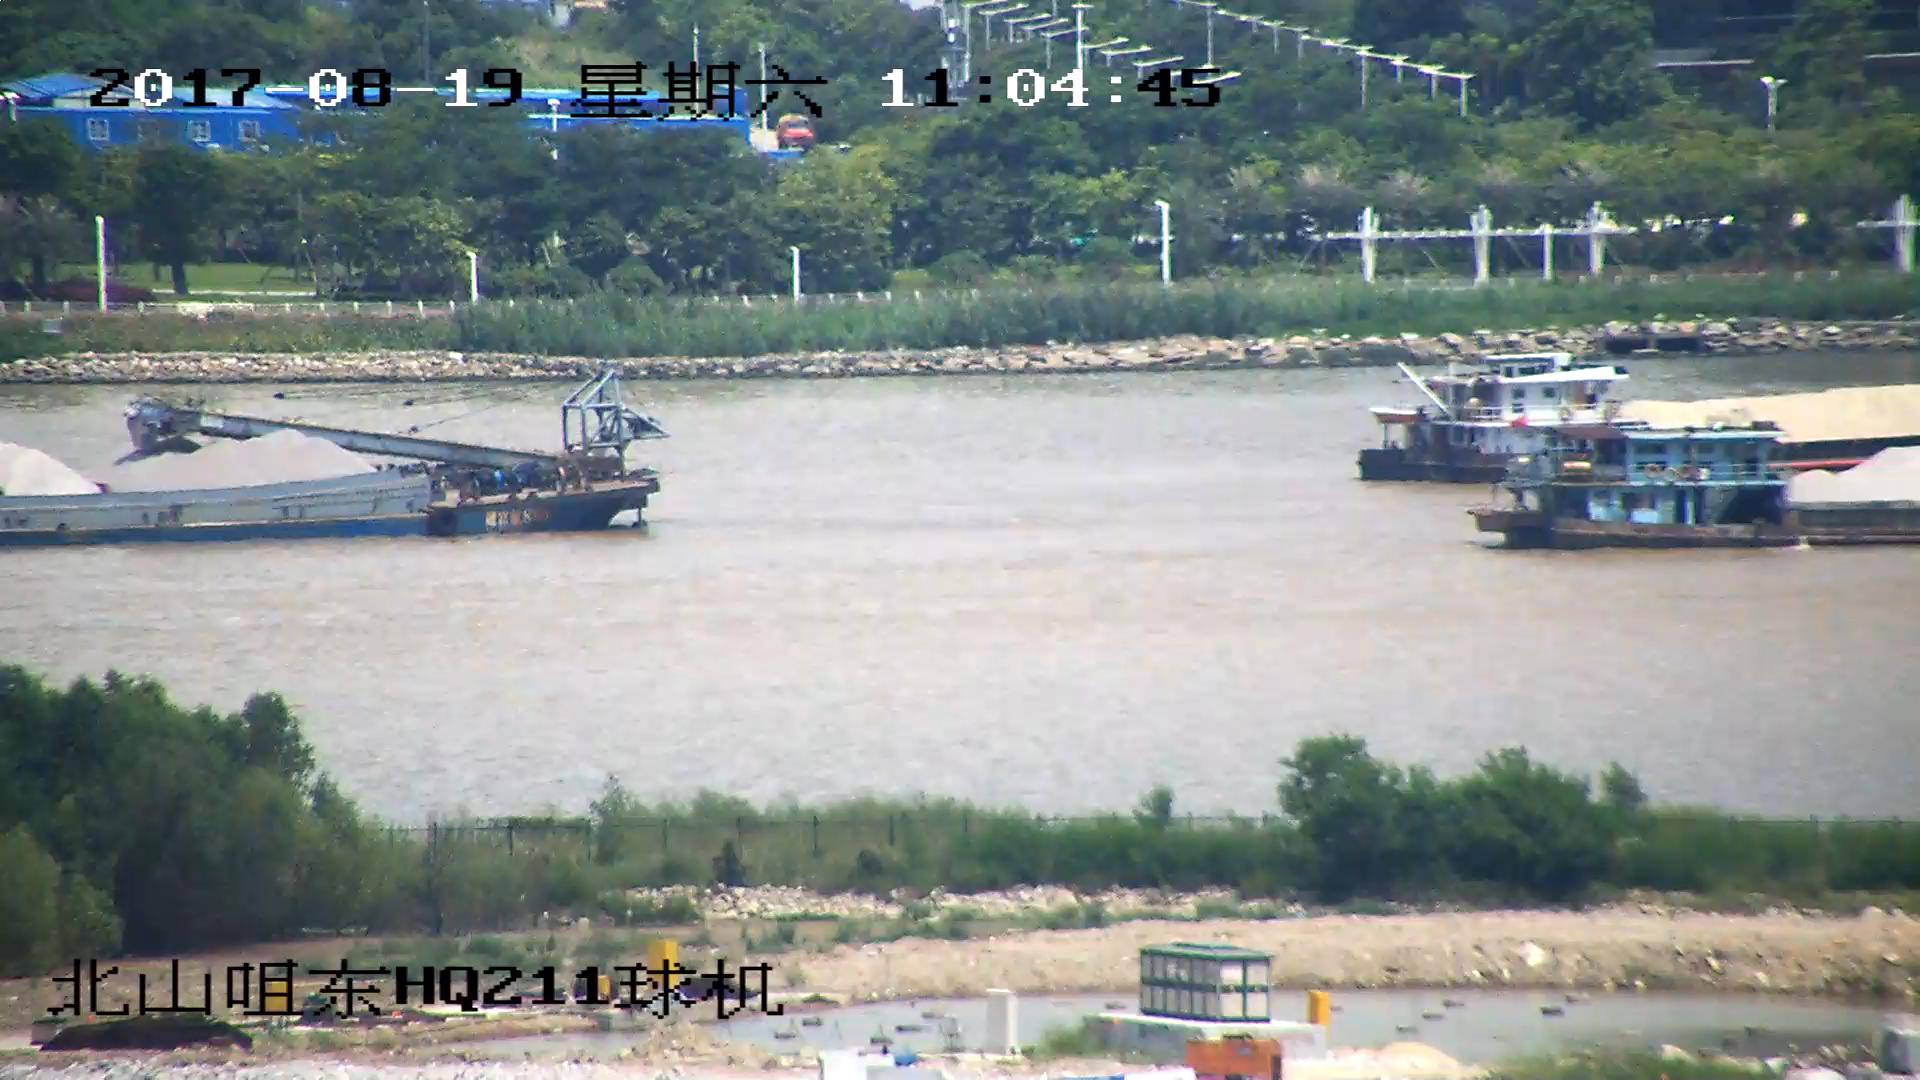ore carrier: (1, 369, 662, 550), (1359, 362, 1920, 490), (1488, 430, 1920, 543)
